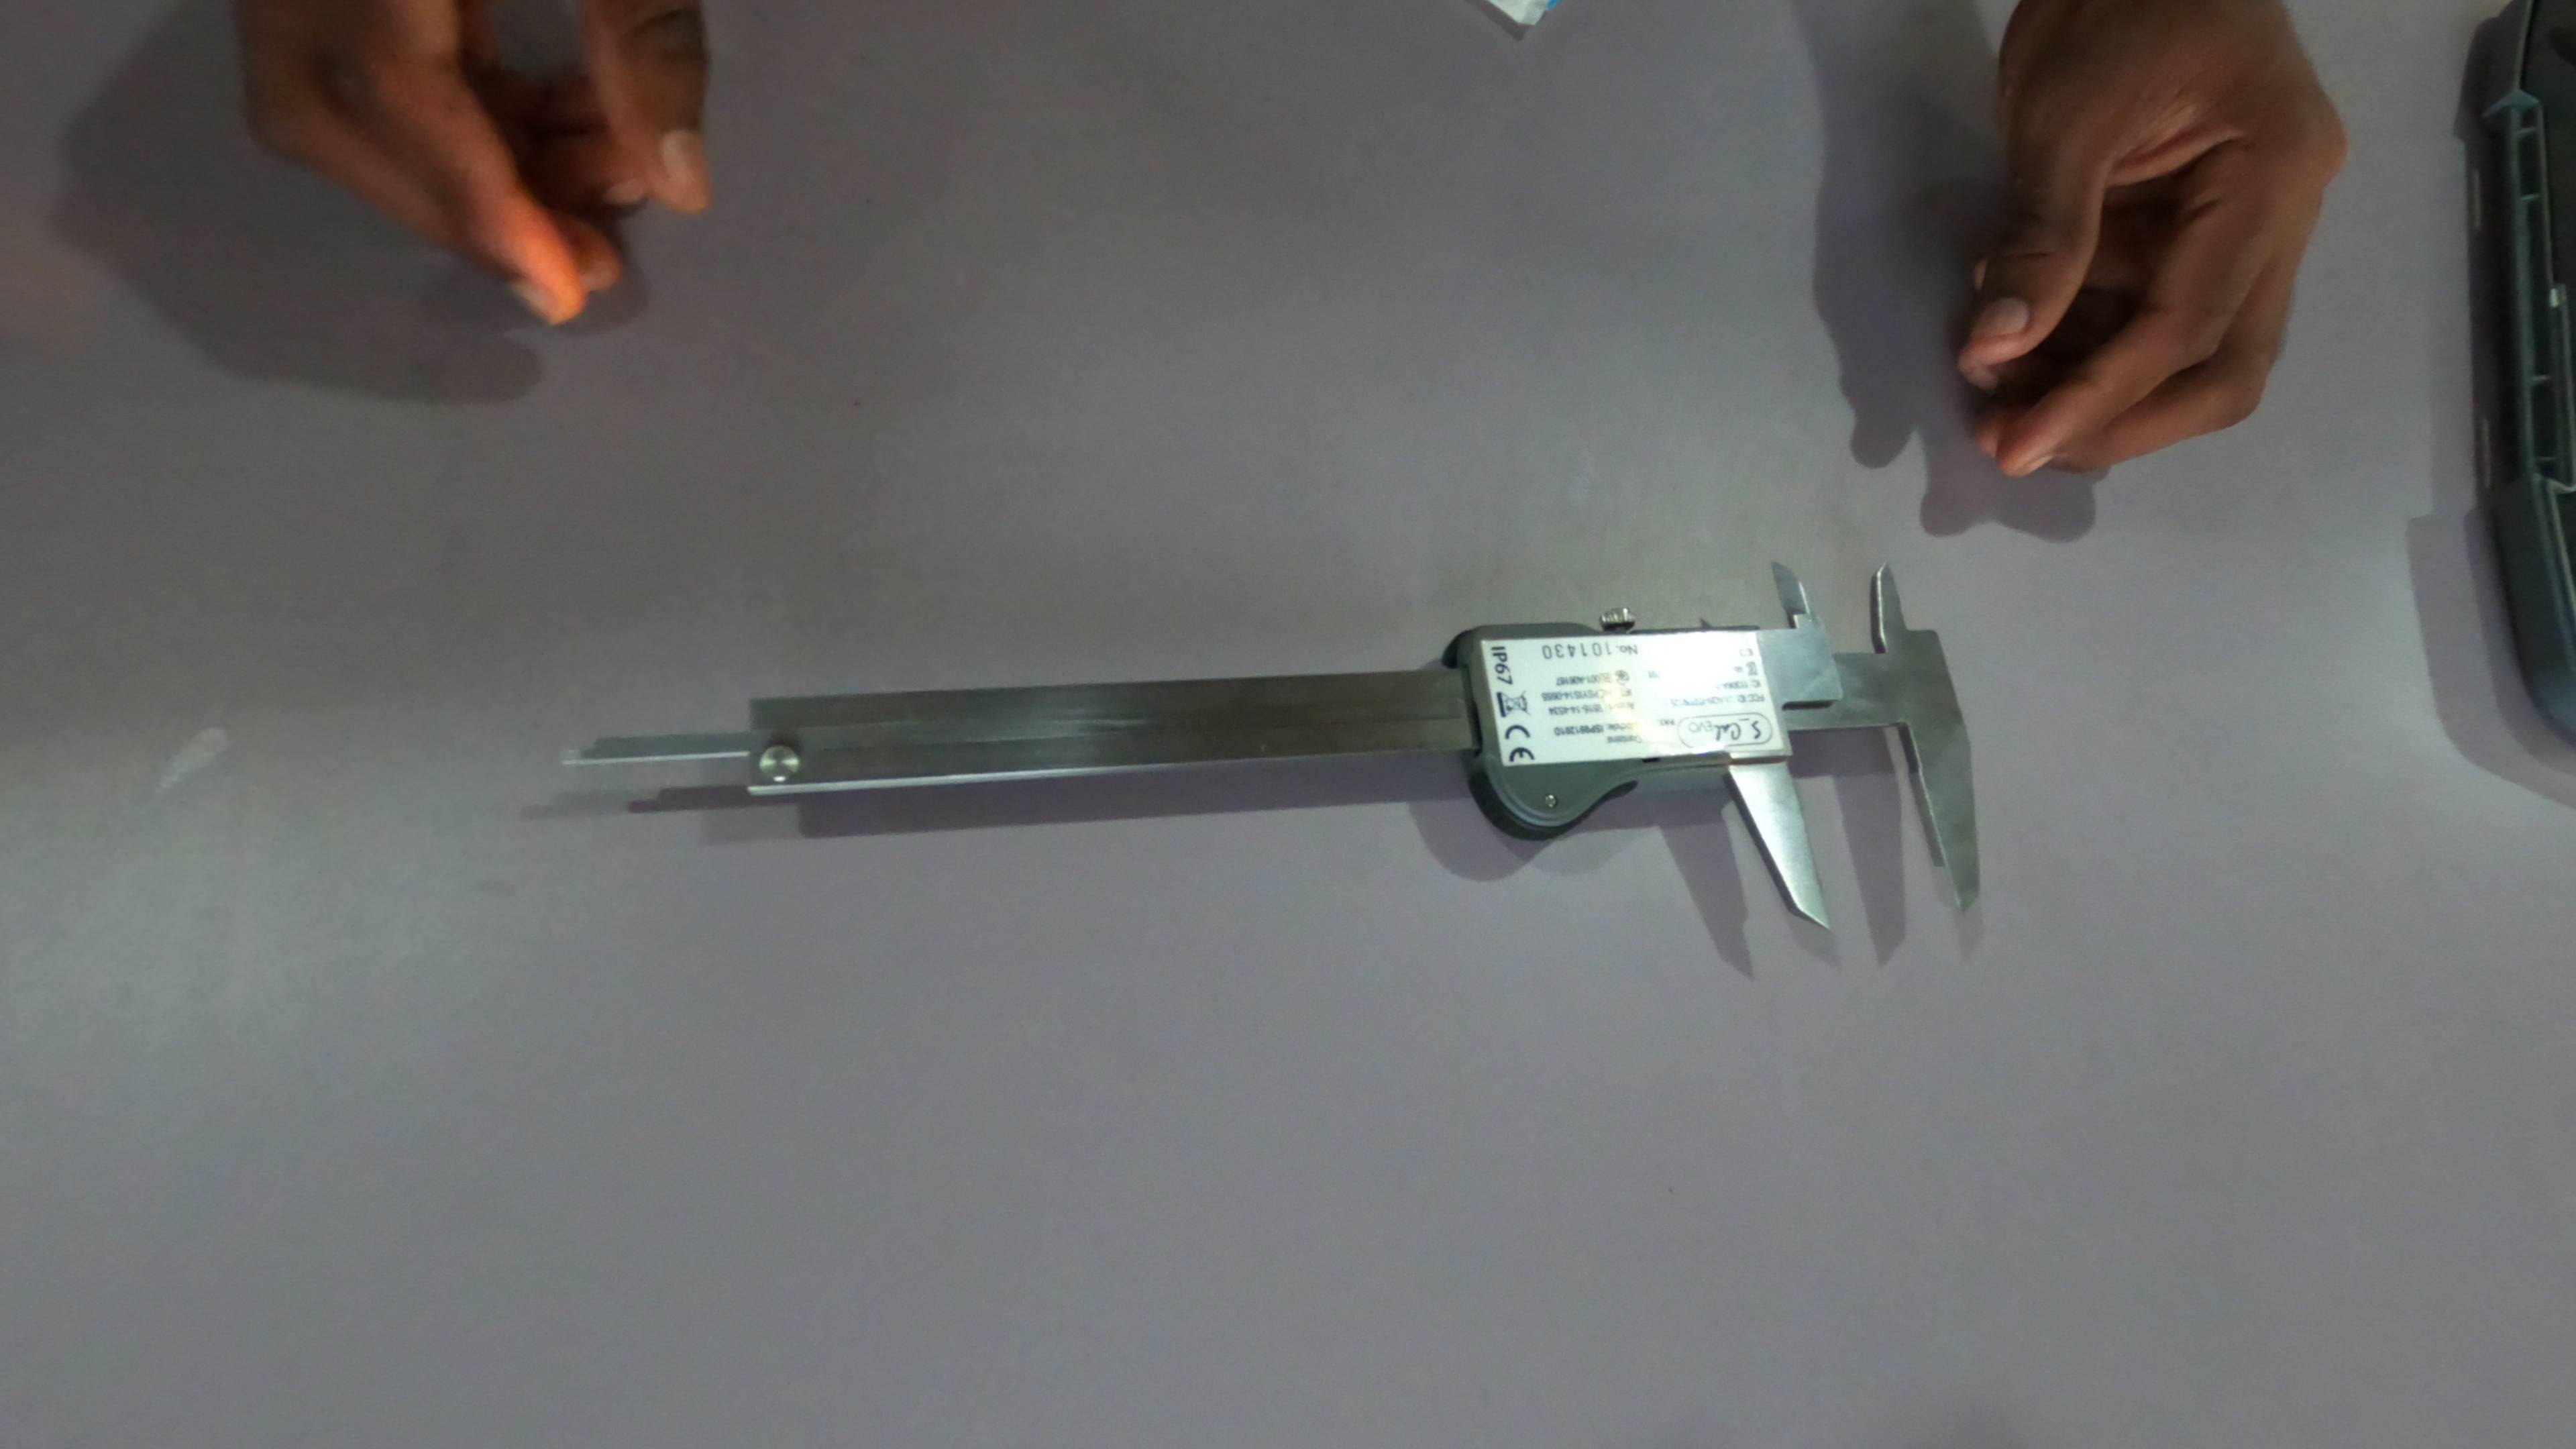vernier_caliper: (547, 557, 1987, 924)
